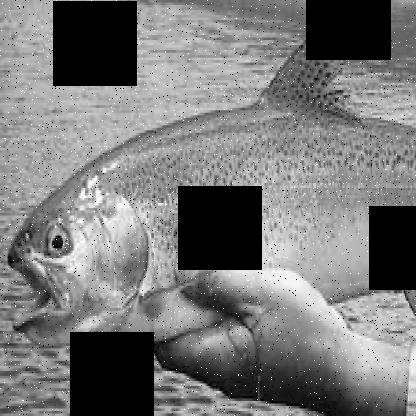fish: (7, 19, 414, 355)
